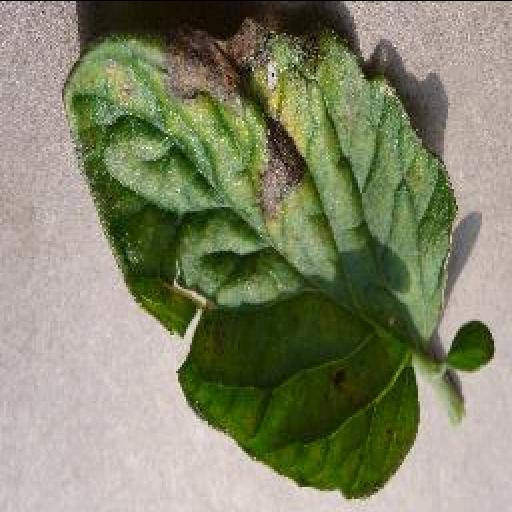disease_tomato: (62, 14, 462, 504)
